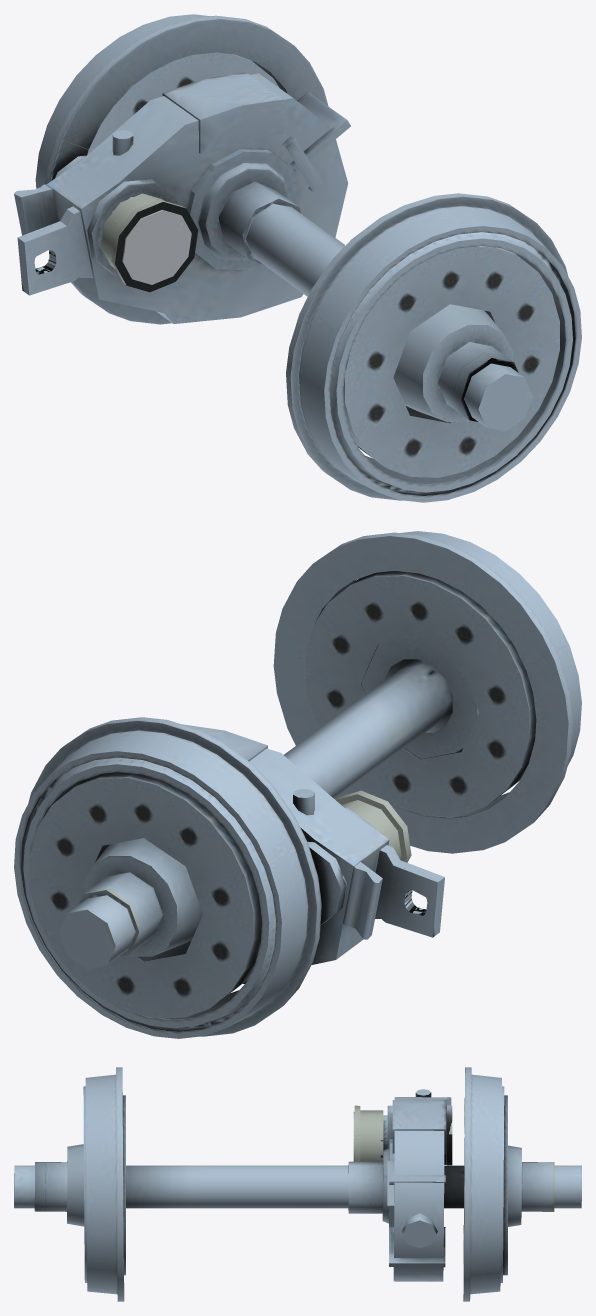
Rendered from chelun_1.FBX.
The picture shows the model from 3 angles, top to bottom: view 1: azimuth 30°, elevation 25°; view 2: azimuth 150°, elevation 25°; view 3: azimuth 270°, elevation 25°; orthographic projection. The views are drawn at different scales.
Parts seen in each view (by area): view 1: Object103; view 2: Object103; view 3: Object103.
Part boxes in pixels (left/top/right/bottom): Object103: left=14, top=14, right=581, bottom=502; Object103: left=14, top=531, right=581, bottom=1038; Object103: left=14, top=1067, right=581, bottom=1301.
Bounding box in the file's own units: 1.15 × 0.9158 × 2.21.
